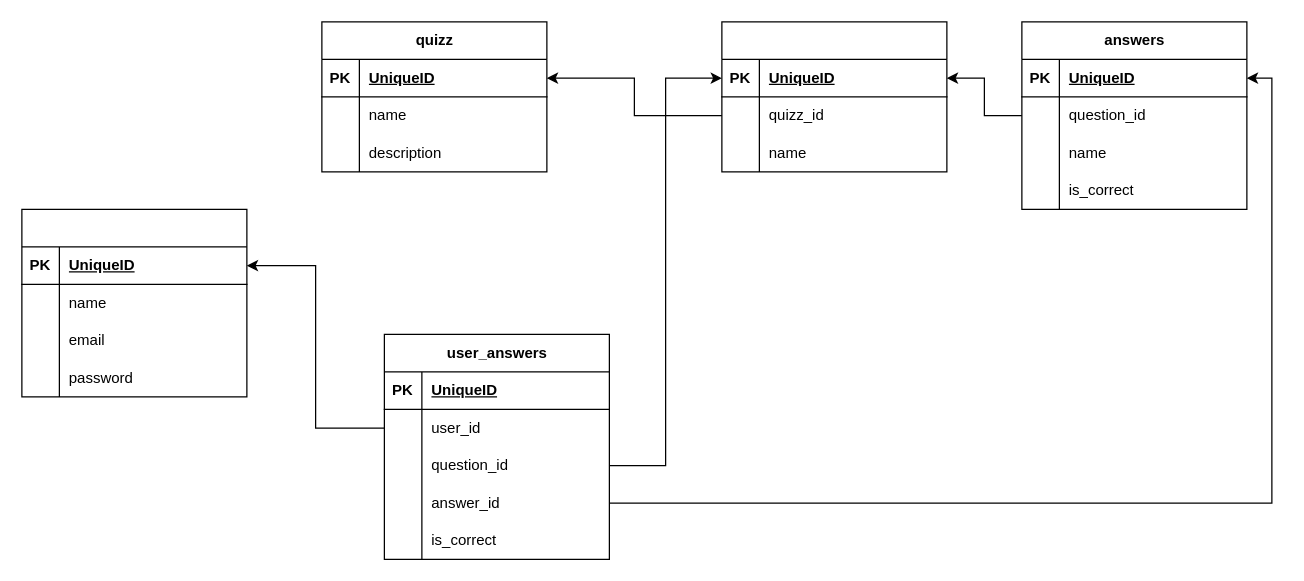
Some shapes in this 1304 by 581 pixel diagram are drawn without their labels. The shapes that lost their labels are listed below. From the top down, each one's box as (x1, y1, x2, y2) in pixels, then its label:
(721, 21, 947, 172): questions
(21, 208, 247, 397): users
